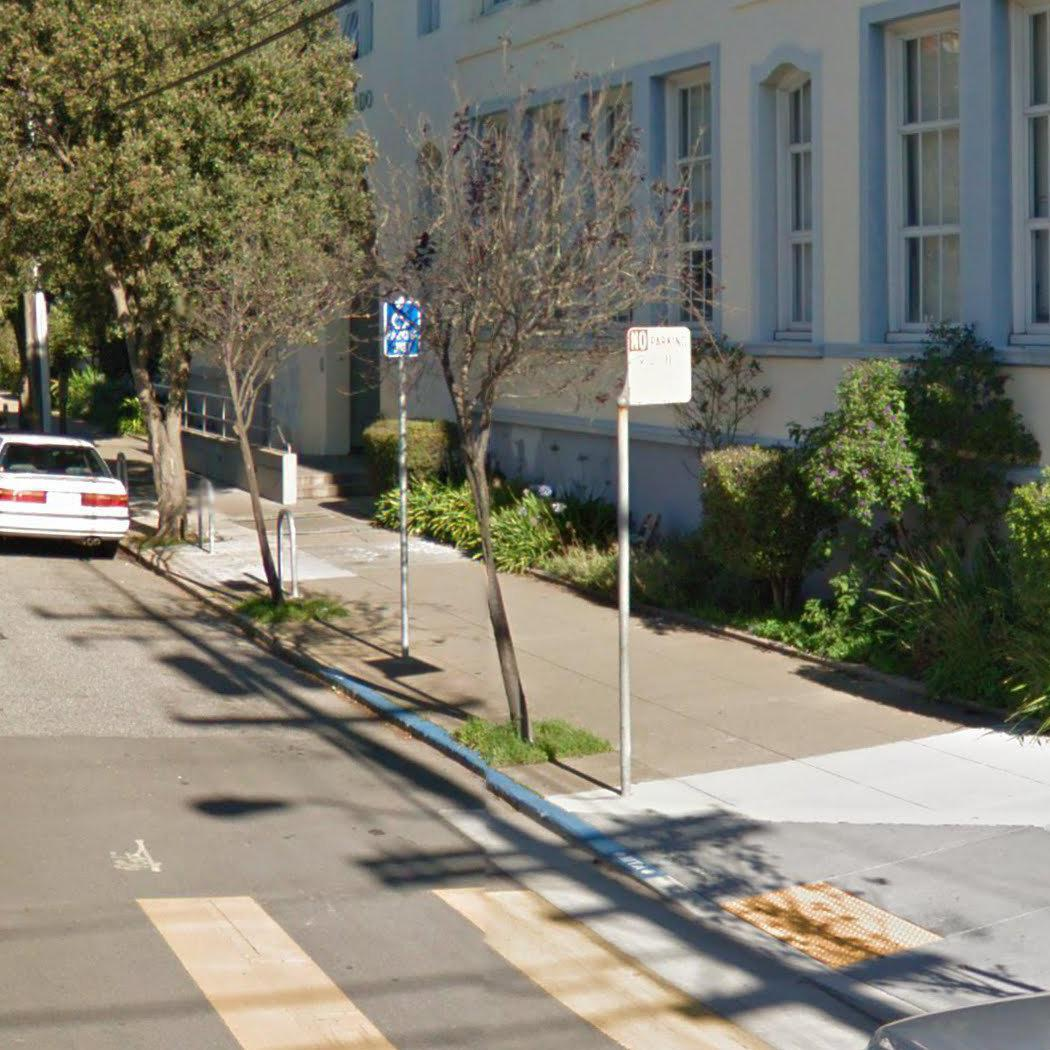No Parking: (623, 324, 696, 407)
